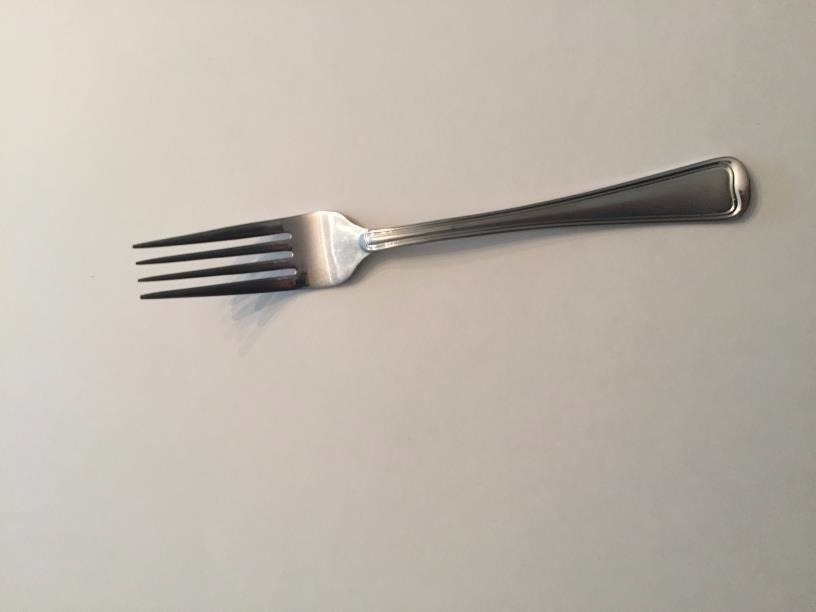fork: (110, 121, 757, 347)
